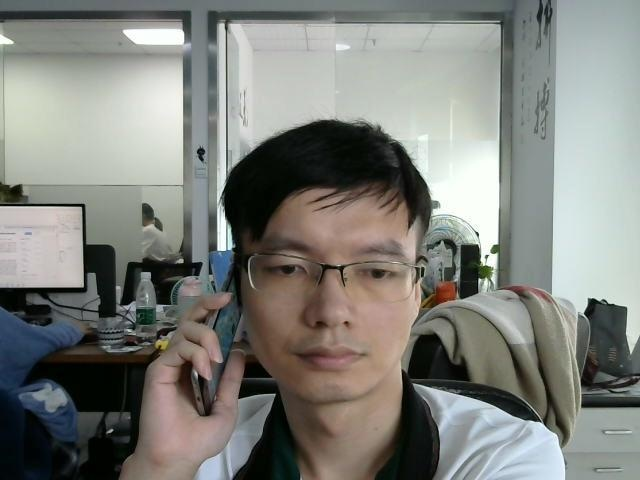hand: (148, 294, 252, 444)
